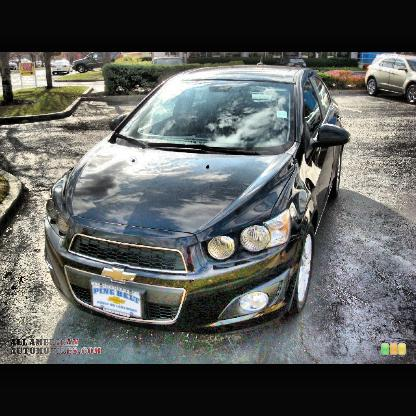Chevrolet Sonic Sedan 2012: (43, 54, 353, 337)
